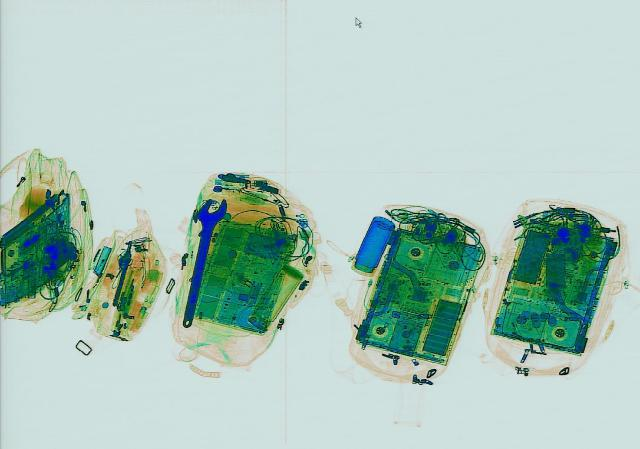Wrench: (169, 196, 229, 327)
